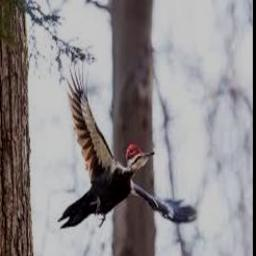Woodpecker: (58, 62, 198, 228)
